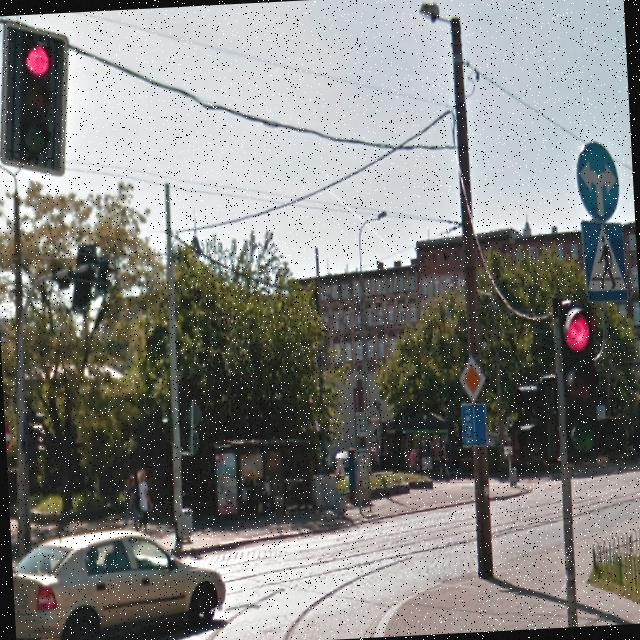Droga z pierwszenstwem: (458, 352, 486, 402)
Przejscie dla pieszych: (580, 220, 630, 304)
